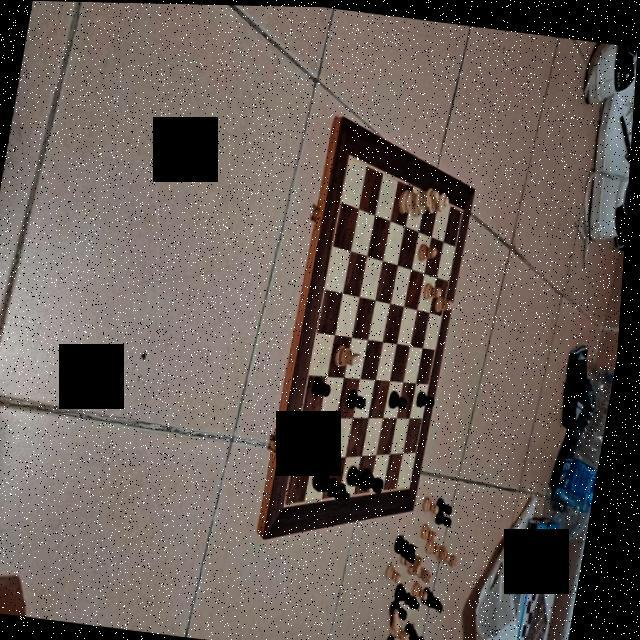chess-table-corners: (348, 147, 357, 161), (461, 202, 468, 214), (288, 496, 295, 508), (413, 479, 418, 488)
